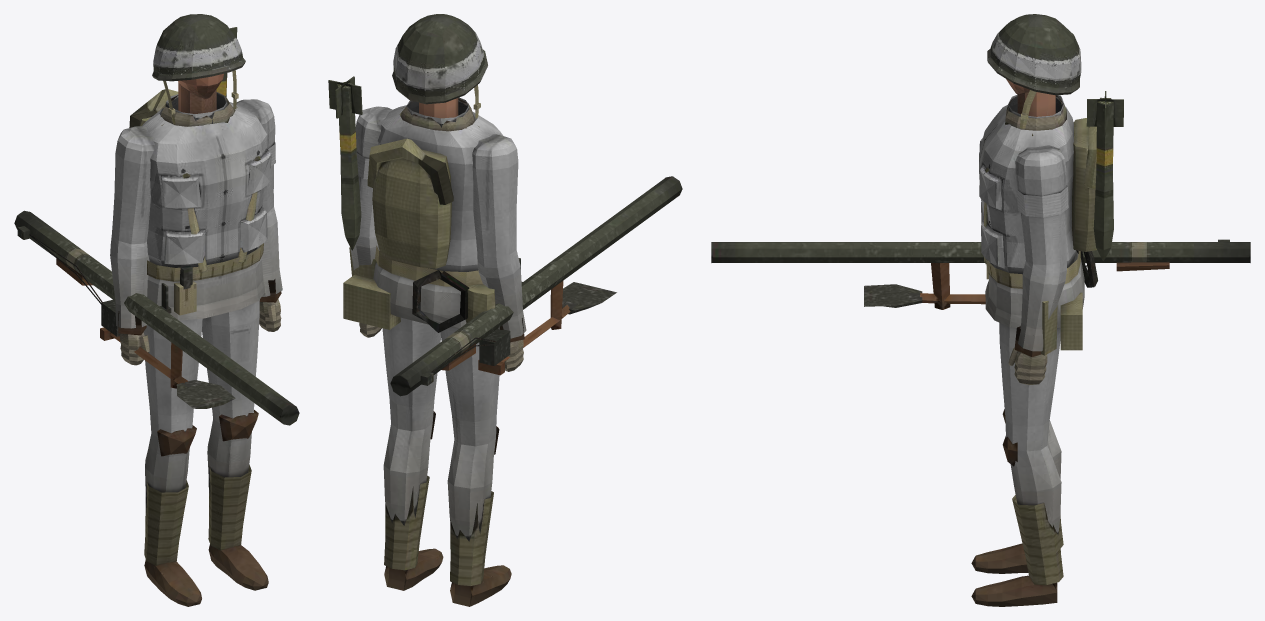
File: engineers.glb
3 renders of one model, left to right at view 1: azimuth 30°, elevation 25°; view 2: azimuth 150°, elevation 25°; view 3: azimuth 270°, elevation 25°, orthographic. The views are drawn at different scales.
Visible parts, largest first — view 1: engineers_LOD0; view 2: engineers_LOD0; view 3: engineers_LOD0.
Boxes of the visible parts, x1,y1,x2,y2 form: engineers_LOD0: (14,14,299,606); engineers_LOD0: (328,14,682,606); engineers_LOD0: (711,14,1250,606).
Size of what is drawn, in the model's own units: 0.5719 by 1.77 by 1.52.
Materials: 1 (1 with a texture image).
